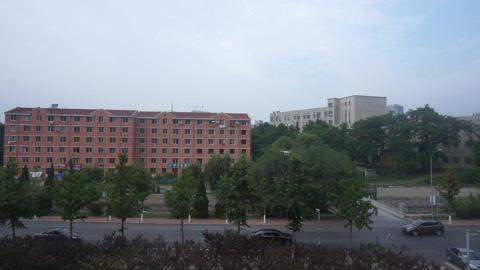UAV: (280, 151, 292, 156)
